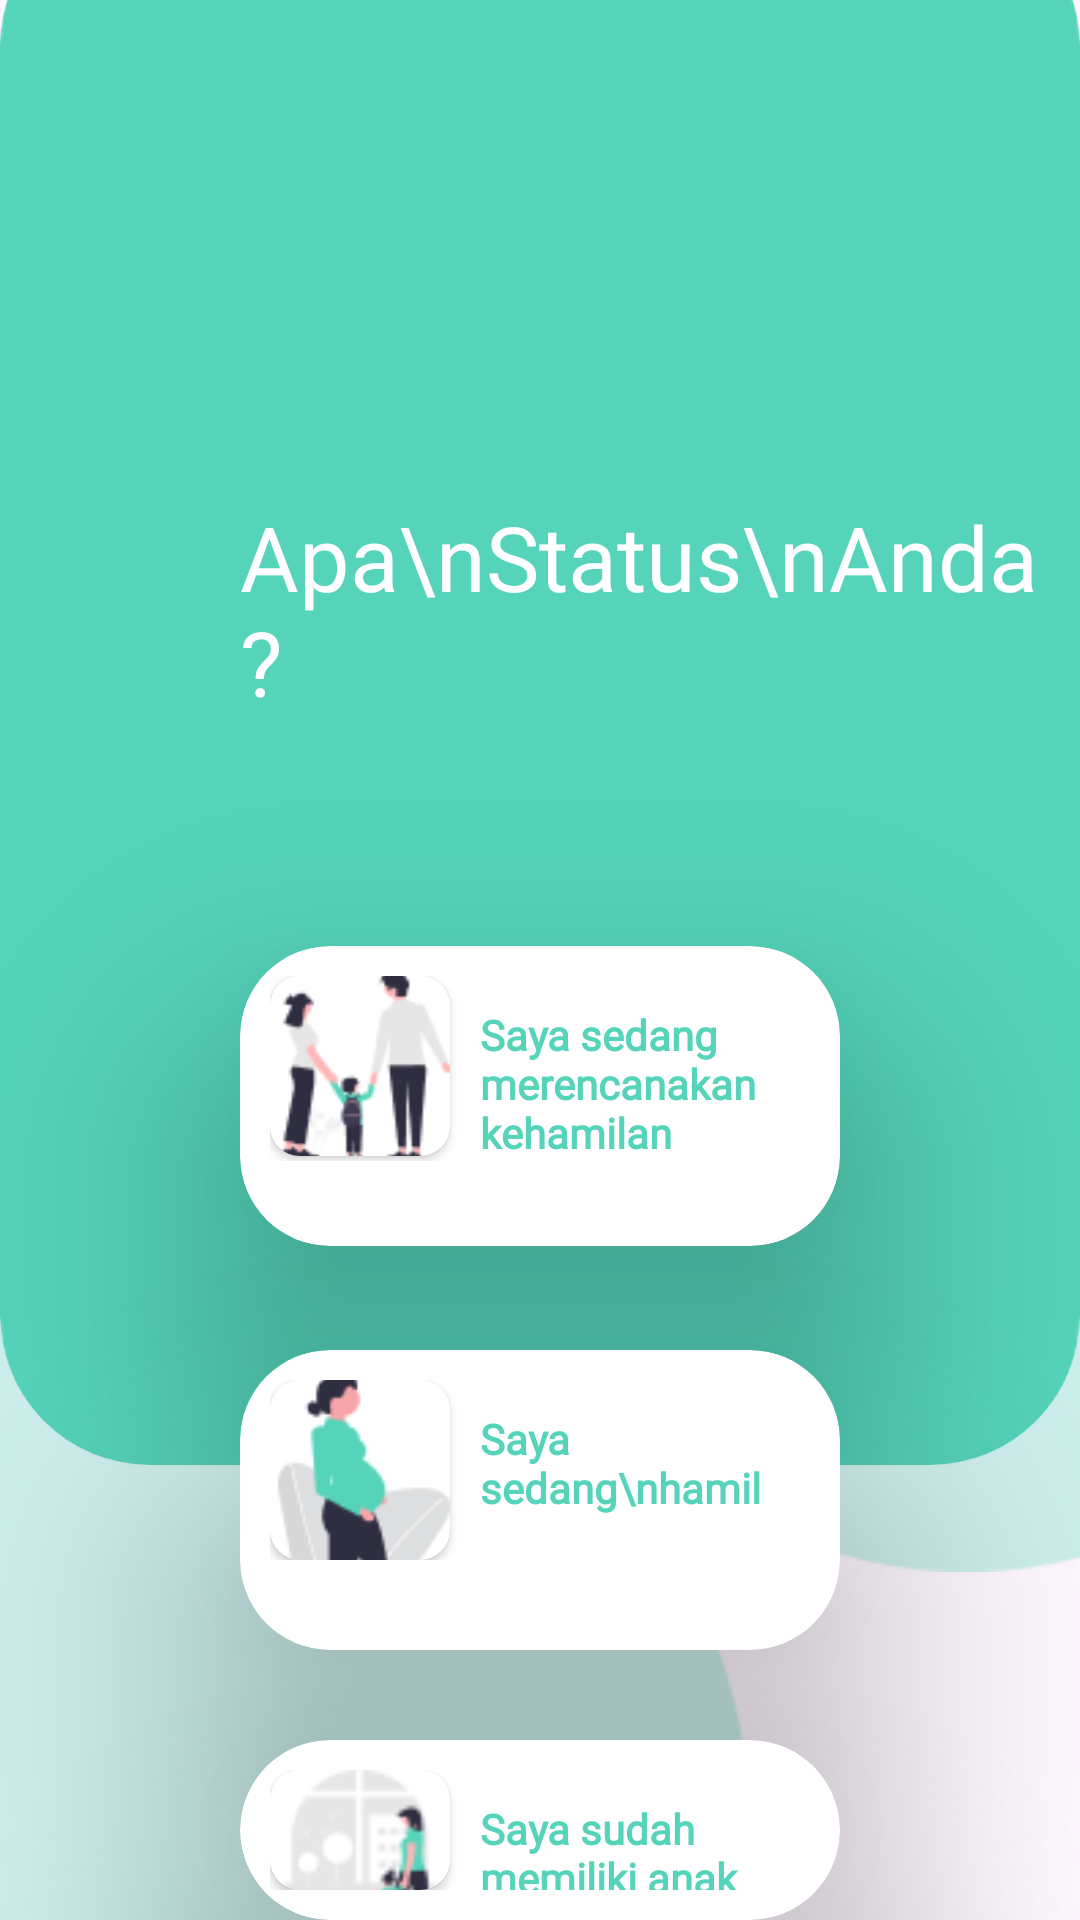

Icons on this 1080w x 1920h Android screen, each with the point to tap as (x=x, y=y):
family: (x=360, y=1066)
pregnant: (x=360, y=1470)
